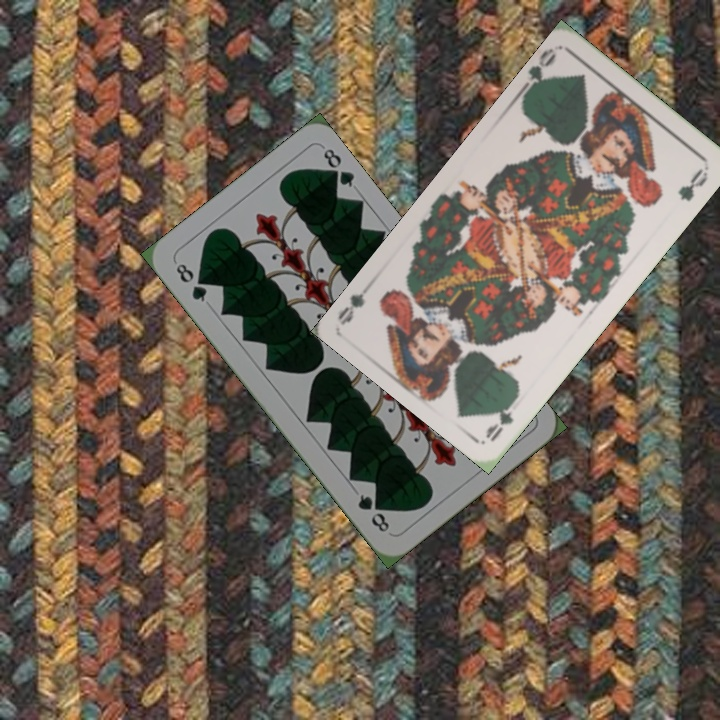G8: (171, 259, 210, 305)
GO: (515, 44, 559, 97), (481, 389, 522, 444)
